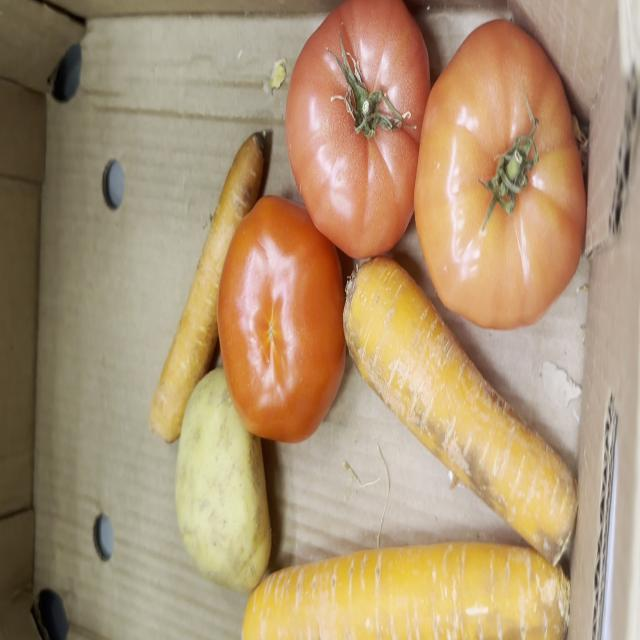carrot: (344, 256, 578, 565), (149, 132, 264, 441), (242, 543, 570, 640)
potato: (175, 368, 271, 593)
tomato: (414, 20, 586, 329), (286, 0, 430, 258), (218, 196, 346, 443)
